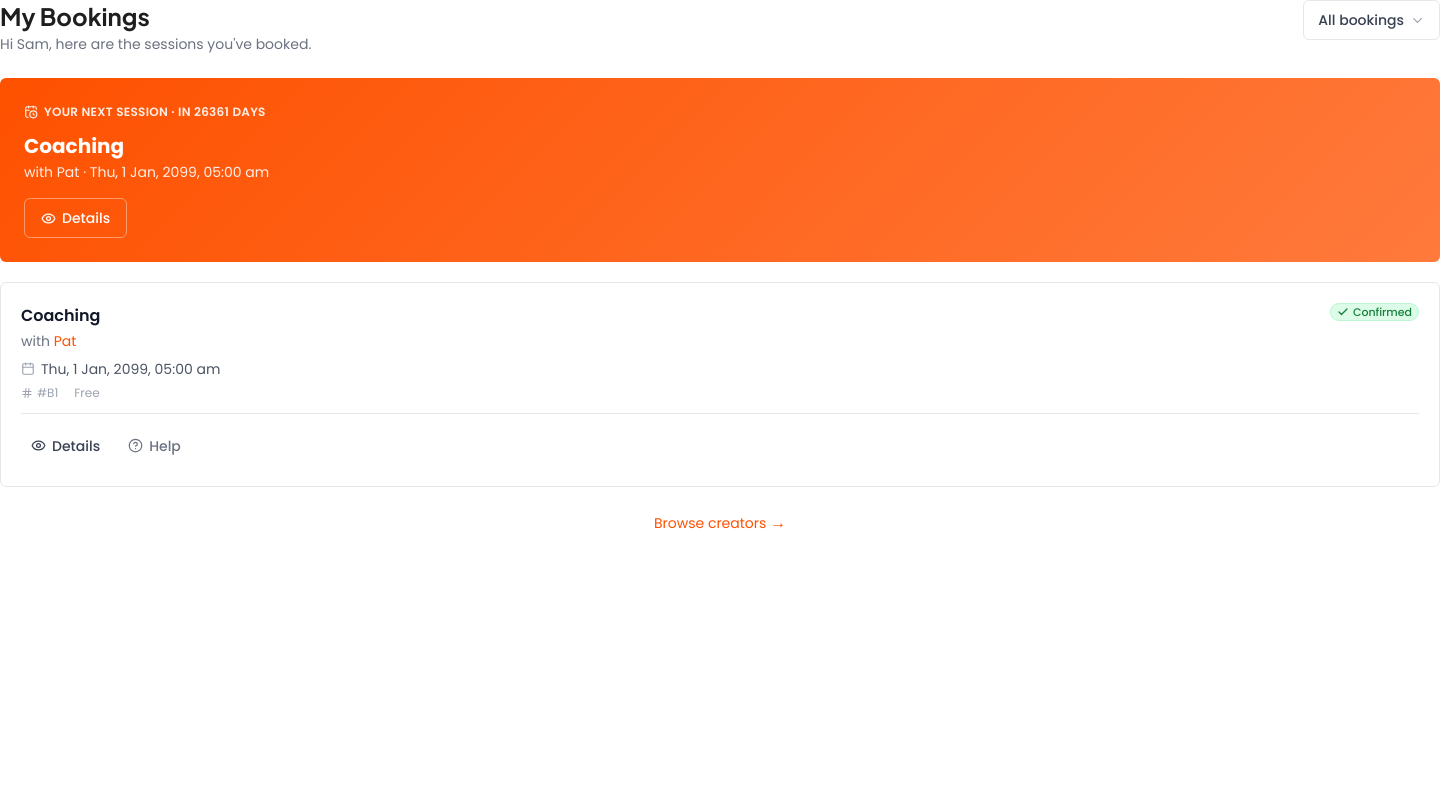
upcoming → Details modal shows Reschedule + Cancel
// Upcoming booking now appears twice: the "next session" hero + the list row.
What coordinates should you click on to do the following:
click the button "Details" below "Your next session ·"
I would click on:
 (76, 218)
Its box is [24,198,127,238].
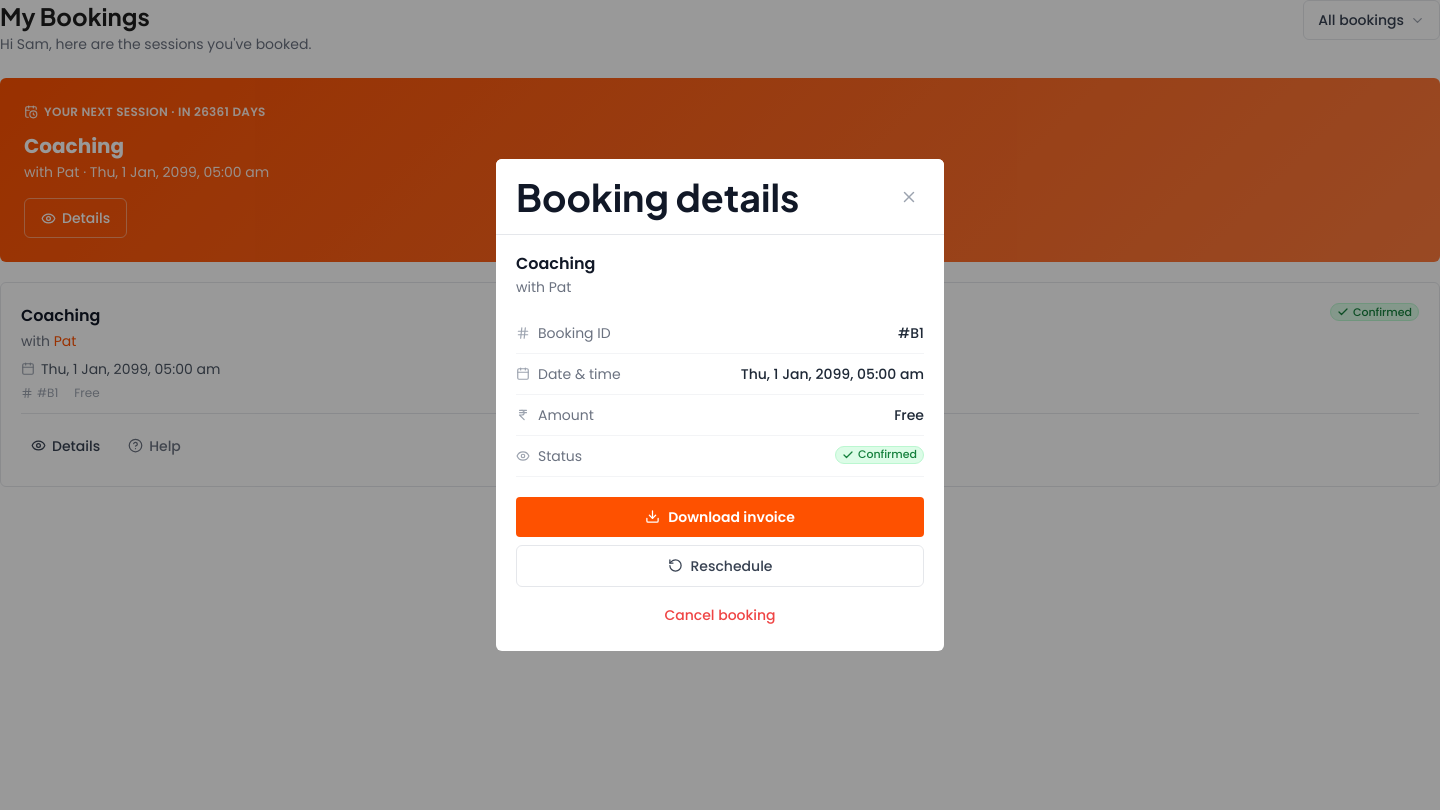
Expected: the heading "Booking details" is shown, [516,175,799,218]
Expected: the button "Reschedule" is shown, [516,545,924,587]
Expected: the button "Cancel booking" is shown, [516,595,924,635]
